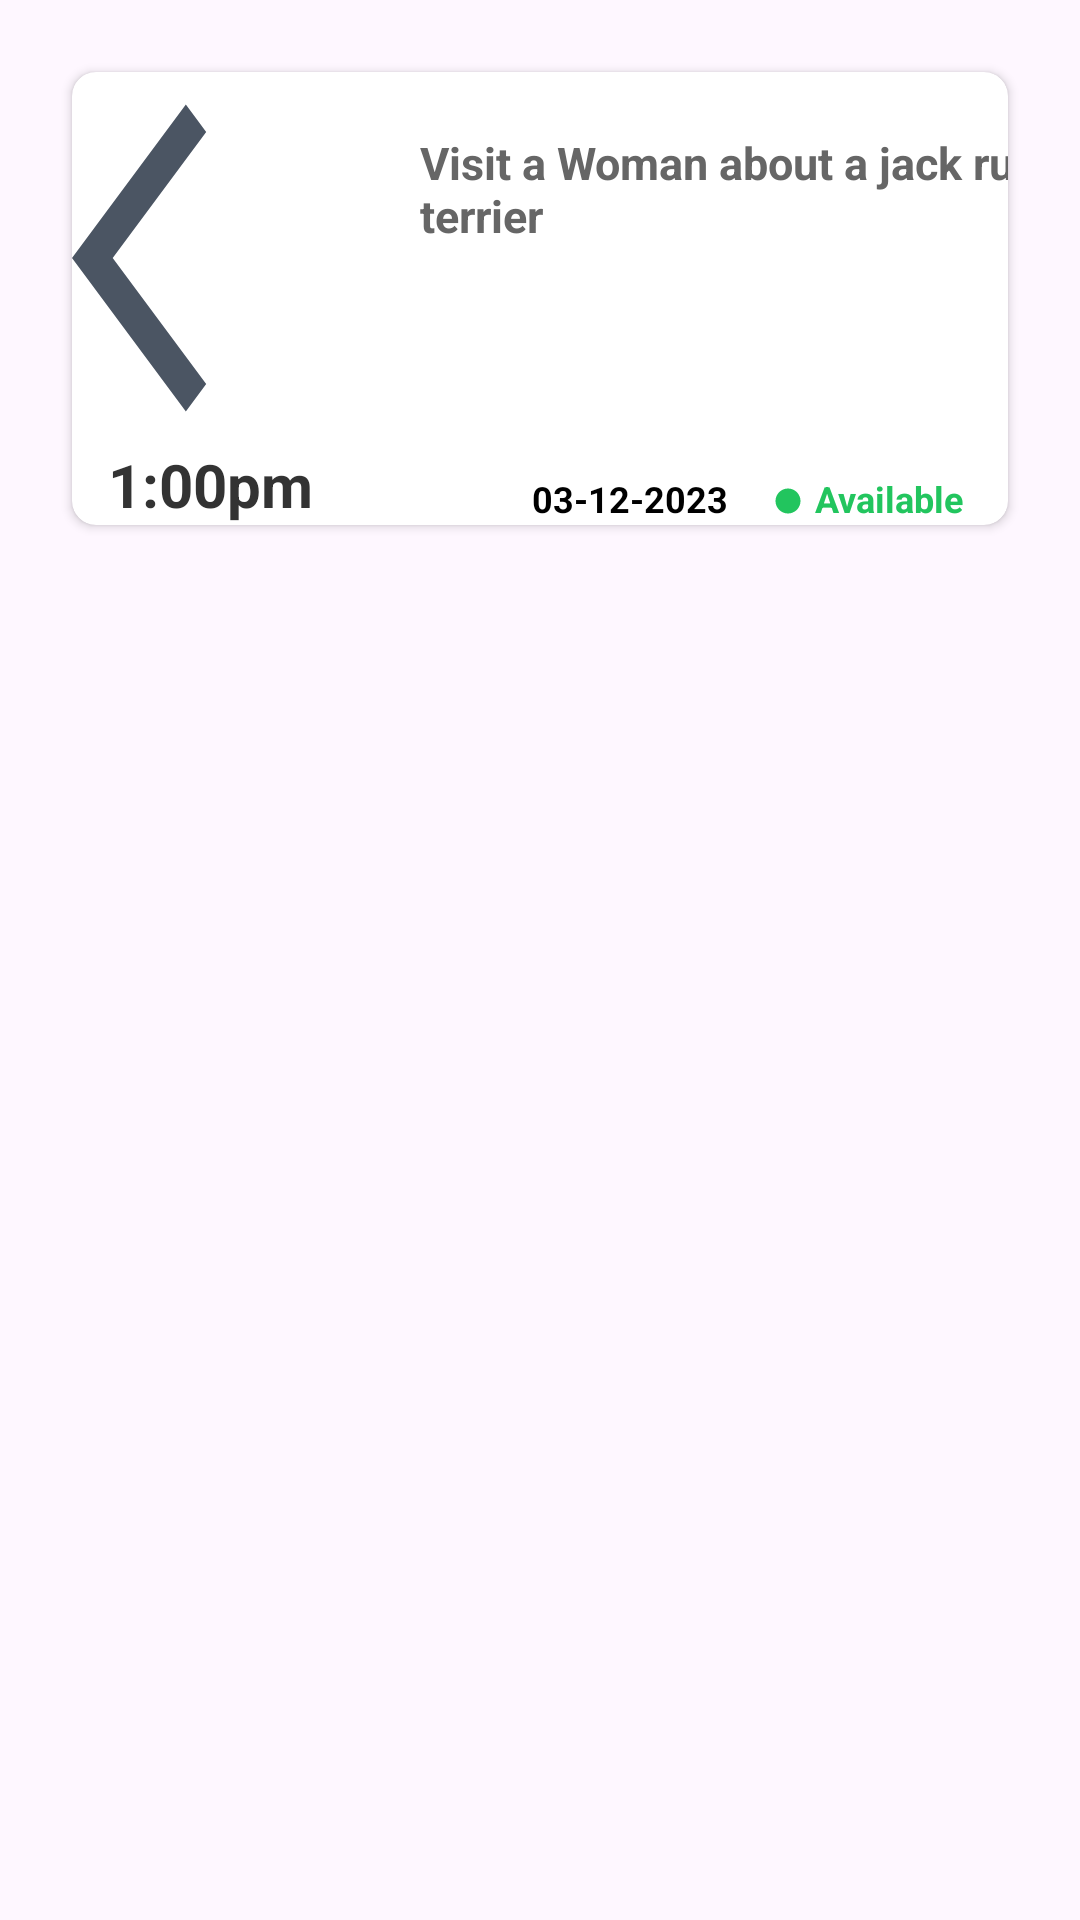

Locate icon controls on the screen. Image size 1080 × 1920, boxes as {"x1": x1, "y1": y1, "x2": x2, "y2": y2}.
arrow back: {"x1": 72, "y1": 72, "x2": 206, "y2": 412}
